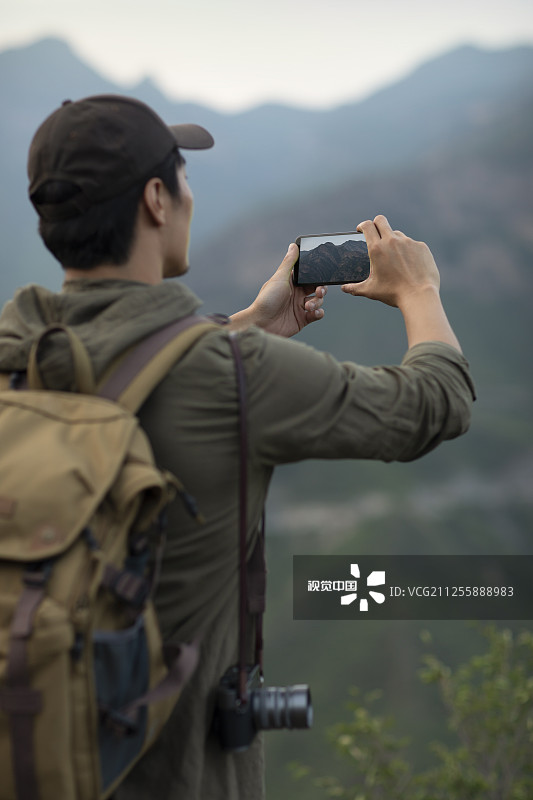taking photos: (222, 206, 474, 345)
